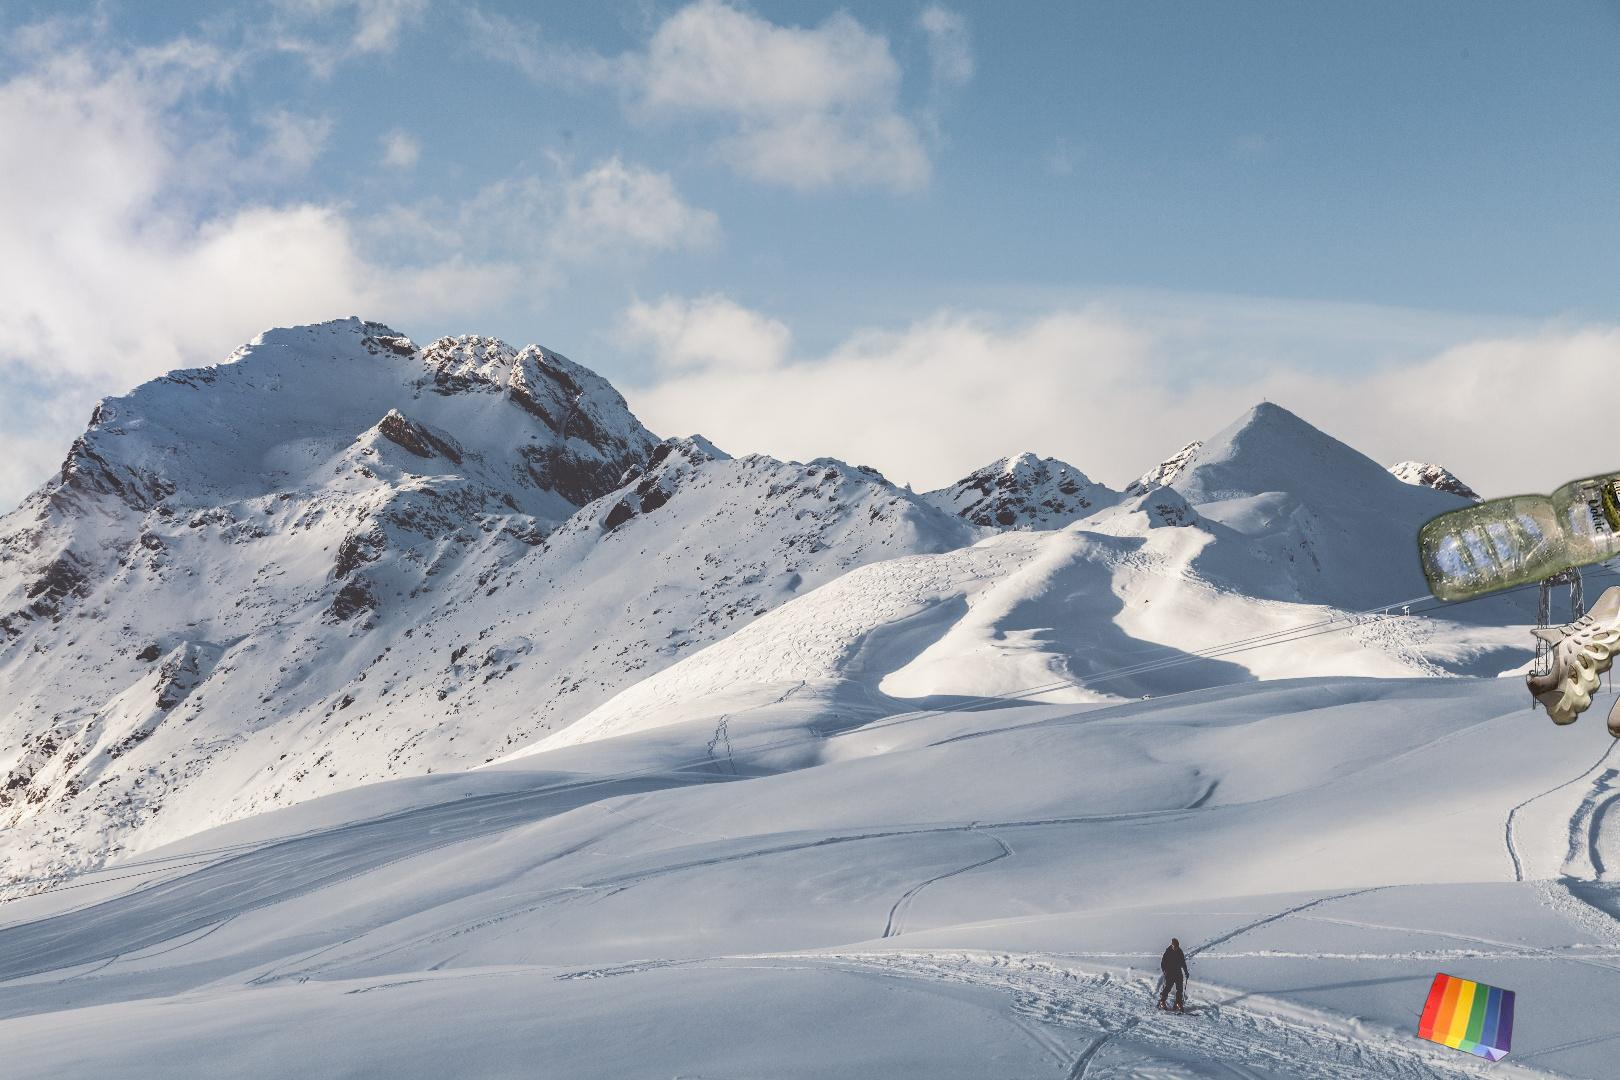paper-bag: (1403, 970, 1518, 1066)
plastic-bottles: (1410, 458, 1620, 607)
shoes: (1524, 583, 1620, 741)
